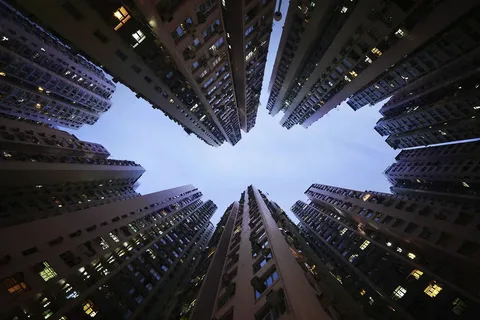high_rise_building: (196, 170, 314, 314)
